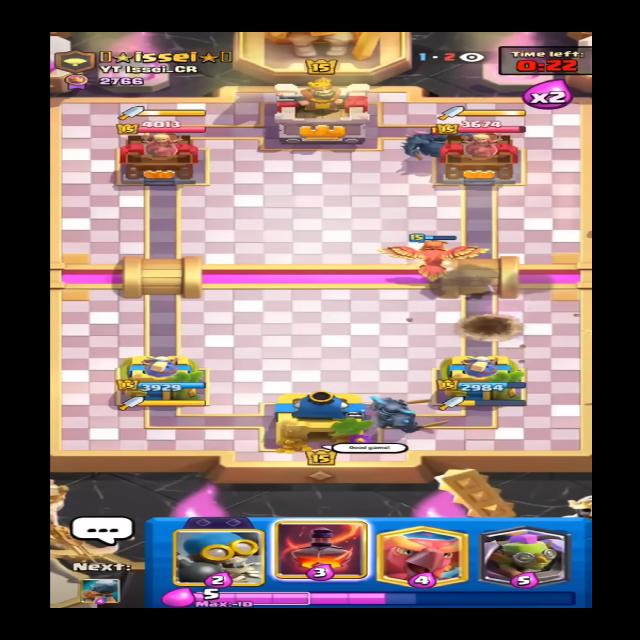Pekka: (398, 116, 478, 164)
